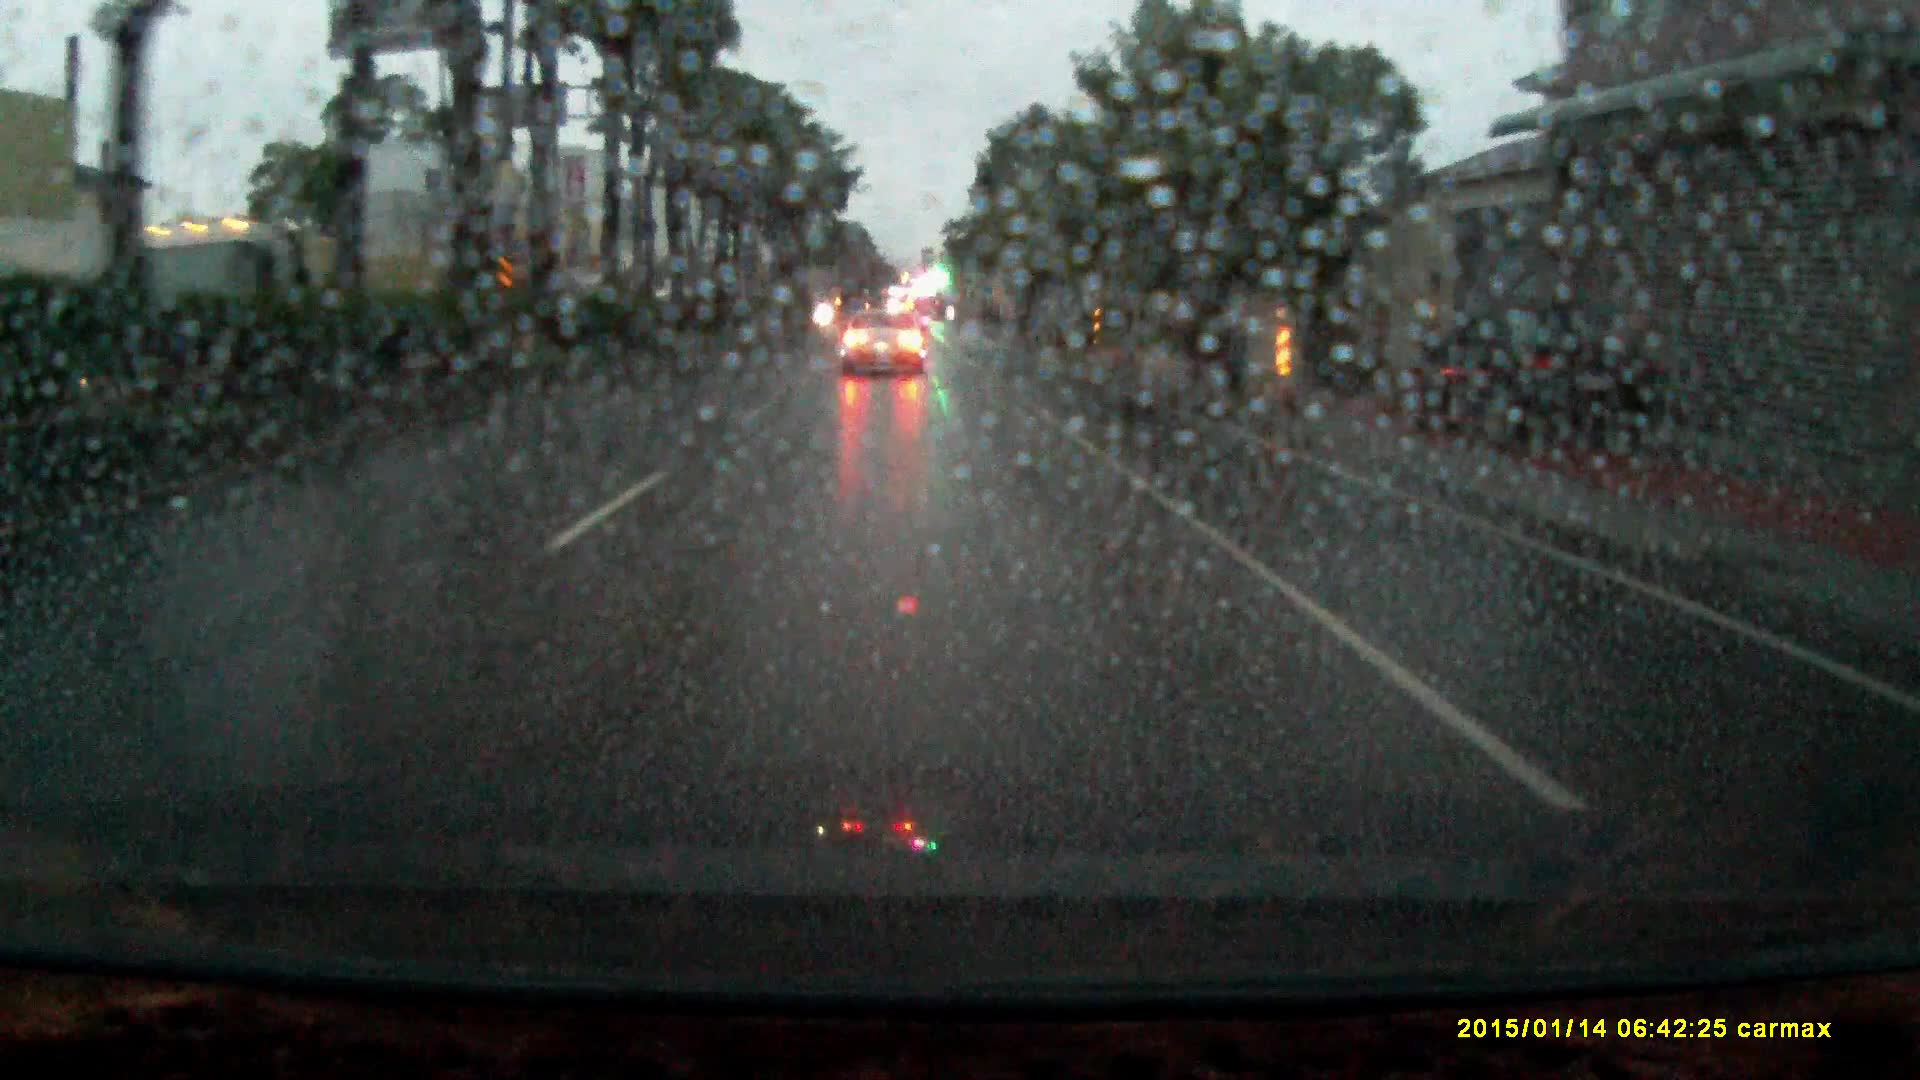vehicle: (116, 215, 431, 367), (1411, 293, 1665, 452), (839, 301, 927, 372)
